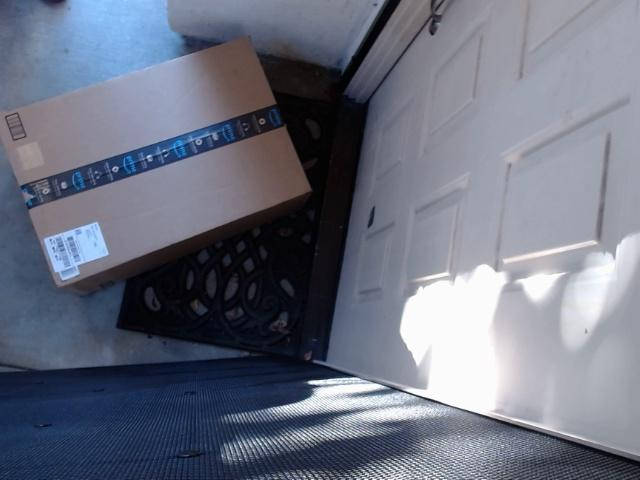box: (0, 46, 311, 305)
